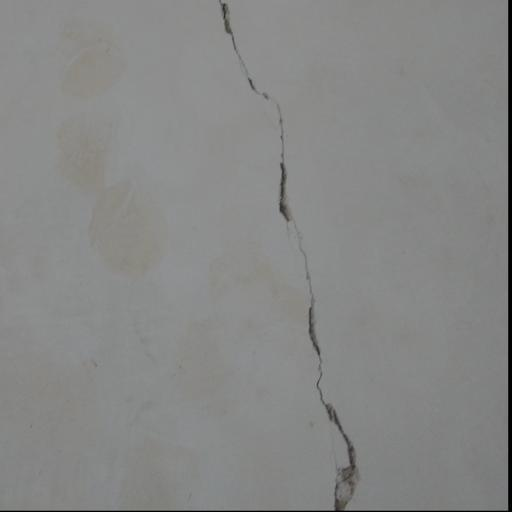major_crack: (213, 0, 376, 512)
